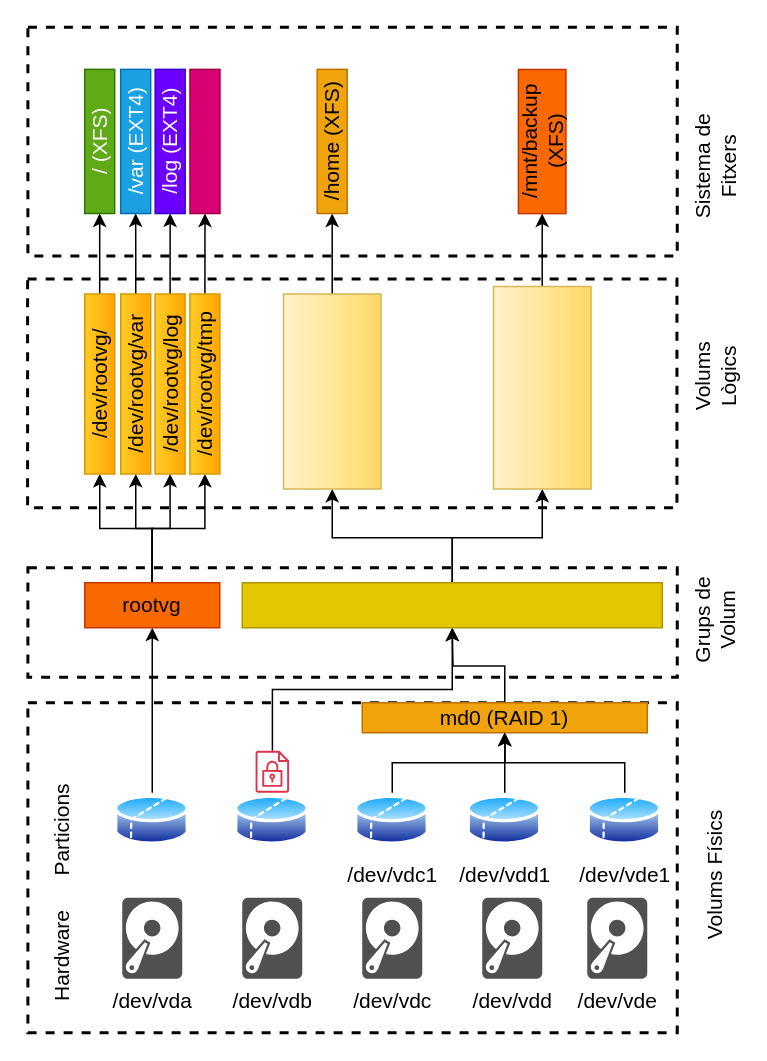
This 767x1061 diagram has some shape labels left out. The centre of each missing label's shape, as x and y in pixels:
/dev/datavg/backup: the point at 541,387
/dev/datavg/data: the point at 331,390
/dev/vda1: the point at 151,820
/dev/vdb1: the point at 271,820
/tmp (EXT4): the point at 204,140
datavg: the point at 451,604
